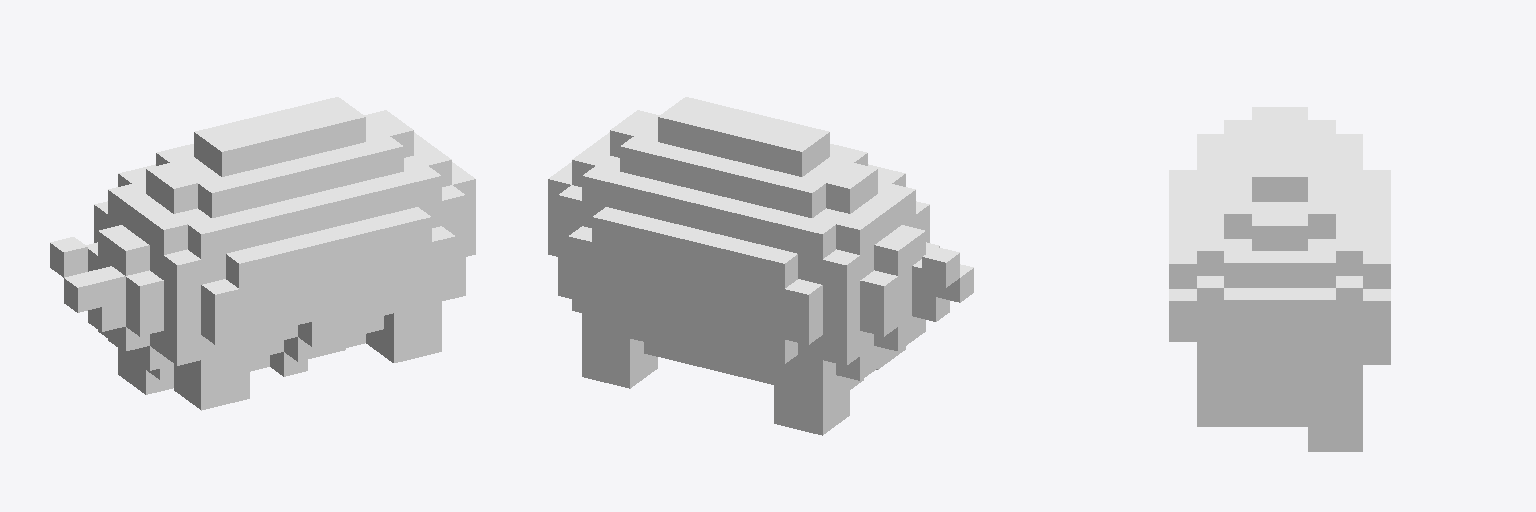
File: PigWalkAnim-2a.obj
The picture shows the model from 3 angles: view 1: azimuth 30°, elevation 25°; view 2: azimuth 150°, elevation 25°; view 3: azimuth 270°, elevation 25°; orthographic projection.
Bounding box in the file's own units: 16 × 10 × 8.